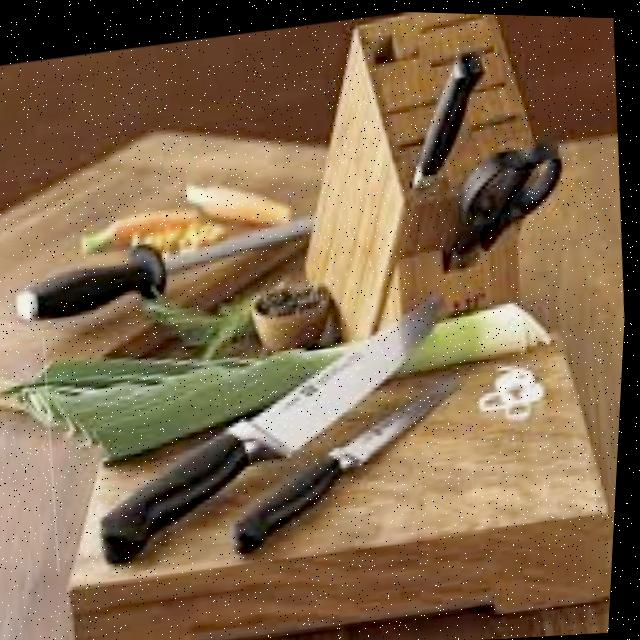knife: (80, 277, 467, 576), (224, 366, 485, 558)
